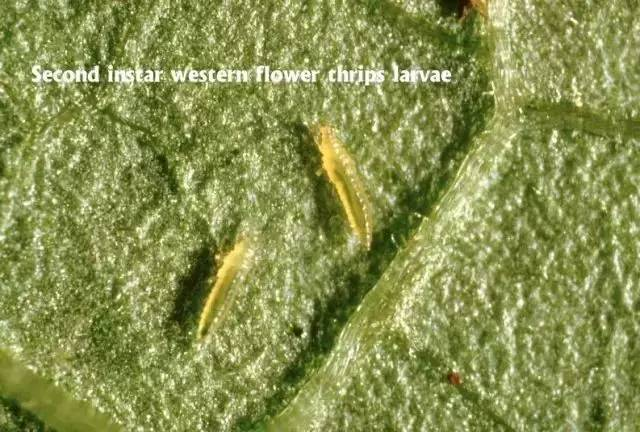thrips: (304, 117, 374, 250), (188, 217, 258, 339)
